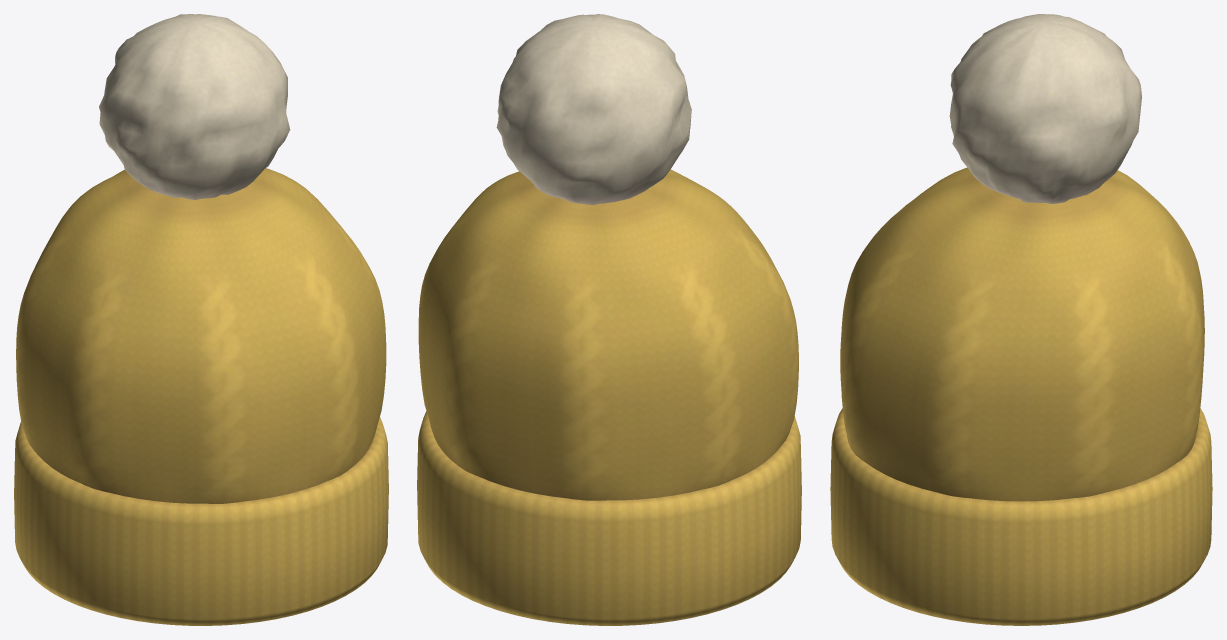
Rendered from beanie.glb.
3 views of the same model, side by side, from view 1: azimuth 30°, elevation 25°; view 2: azimuth 150°, elevation 25°; view 3: azimuth 270°, elevation 25° (orthographic). The views are drawn at different scales.
Parts seen in each view (by area): view 1: beanie_body; view 2: beanie_body; view 3: beanie_body.
Boxes of the visible parts, <box> form: beanie_body: <box>14,14,388,625</box>; beanie_body: <box>417,14,801,625</box>; beanie_body: <box>830,14,1212,625</box>.
Bounding box in the file's own units: 0.2012 × 0.307 × 0.2012.
Materials: 1 (1 with a texture image).
